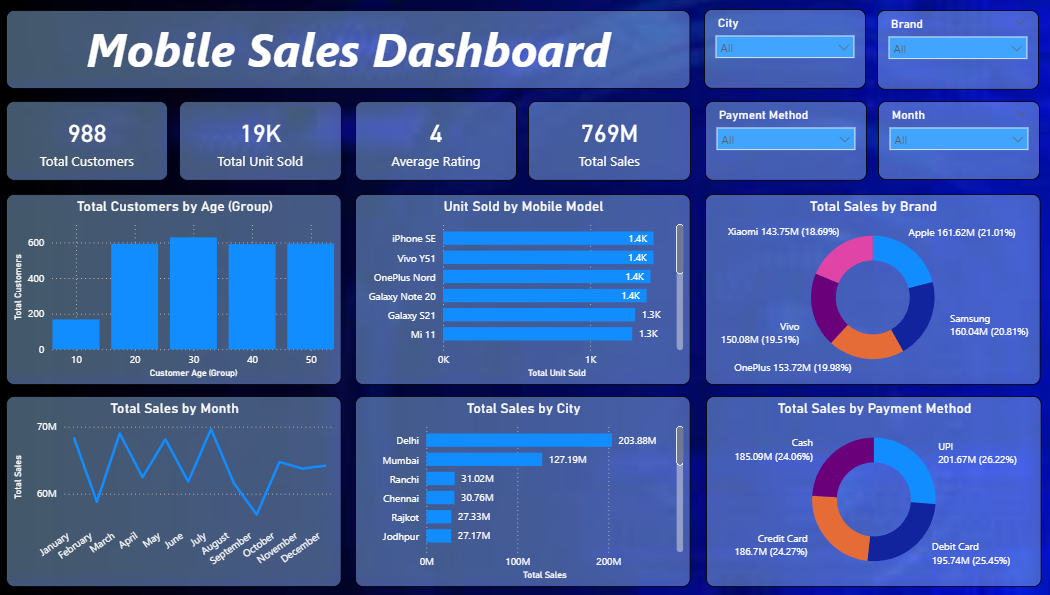

Layout of this report page (visuals, bound fields, positions):
{"tool":"powerbi","page":{"name":"Page 1","canvas":[1280,720],"ordinal":0},"visuals":[{"type":"card","fields":{"Values":["mobile.TOTAL_SALE"]},"box":[643,125.7,195.7,95.7],"z":0},{"type":"card","fields":{"Values":["mobile.TOTAL_UNIT_SOLD"]},"box":[222.9,125,195.7,95.7],"z":1000},{"type":"card","fields":{"Values":["mobile.TOTAL_CUSTOMERS"]},"box":[14.3,125,195,95.7],"z":2000},{"type":"card","fields":{"Values":["mobile.AVERAGE_RATING"]},"box":[435,125,195,95.7],"z":3000},{"type":"lineChart","title":"Total Sales by Month","fields":{"Category":["mobile.date_column.Variation.Date Hierarchy.Month"],"Y":["mobile.TOTAL_SALE"]},"box":[14,480,404.3,230],"z":4000},{"type":"donutChart","title":"Total Sales by Brand","fields":{"Category":["mobile.Brand"],"Y":["mobile.TOTAL_SALE"]},"box":[855.7,237,404,230],"z":5000},{"type":"clusteredBarChart","title":"Total Sales by City","fields":{"Category":["mobile.City"],"Y":["mobile.TOTAL_SALE"]},"box":[435,480,404.3,230],"z":6000},{"type":"clusteredBarChart","title":"Unit Sold by Mobile Model","fields":{"Category":["mobile.Mobile Model"],"Y":["mobile.TOTAL_UNIT_SOLD"]},"box":[435,237,404.3,230],"z":7000},{"type":"slicer","fields":{"Values":["mobile.Payment Method"]},"box":[855.7,125.7,195,95.7],"z":8000},{"type":"slicer","fields":{"Values":["mobile.Brand"]},"box":[1063,15.7,195,95.7],"z":9000},{"type":"slicer","fields":{"Values":["mobile.City"]},"box":[855,15,195,95.7],"z":10000},{"type":"slicer","fields":{"Values":["mobile.Month"]},"box":[1063.9,125.2,195.2,95],"z":11000},{"type":"donutChart","title":"Total Sales by Payment Method","fields":{"Category":["mobile.Payment Method"],"Y":["mobile.TOTAL_SALE"]},"box":[857.1,480,404.3,230],"z":12000},{"type":"clusteredColumnChart","title":"Total Customers by Age (Group)","fields":{"Category":["mobile.Customer Age (bins)"],"Y":["mobile.Total Customers"]},"box":[14,237,404.3,230],"z":13000},{"type":"textbox","box":[14.3,15.7,824.3,95],"z":14000}]}

Visuals, with their boxes in screenshot pixels (x1, y1, x2, y2), scaled from the page's 1280x720 canvas onto the 1050x595 screenshot:
card - mobile.TOTAL_SALE: l=527, t=104, r=688, b=183
card - mobile.TOTAL_UNIT_SOLD: l=183, t=103, r=343, b=182
card - mobile.TOTAL_CUSTOMERS: l=12, t=103, r=172, b=182
card - mobile.AVERAGE_RATING: l=357, t=103, r=517, b=182
"Total Sales by Month" lineChart: l=11, t=397, r=343, b=587
"Total Sales by Brand" donutChart: l=702, t=196, r=1033, b=386
"Total Sales by City" clusteredBarChart: l=357, t=397, r=688, b=587
"Unit Sold by Mobile Model" clusteredBarChart: l=357, t=196, r=688, b=386
slicer - mobile.Payment Method: l=702, t=104, r=862, b=183
slicer - mobile.Brand: l=872, t=13, r=1032, b=92
slicer - mobile.City: l=701, t=12, r=861, b=91
slicer - mobile.Month: l=873, t=103, r=1033, b=182
"Total Sales by Payment Method" donutChart: l=703, t=397, r=1035, b=587
"Total Customers by Age (Group)" clusteredColumnChart: l=11, t=196, r=343, b=386
textbox: l=12, t=13, r=688, b=91
